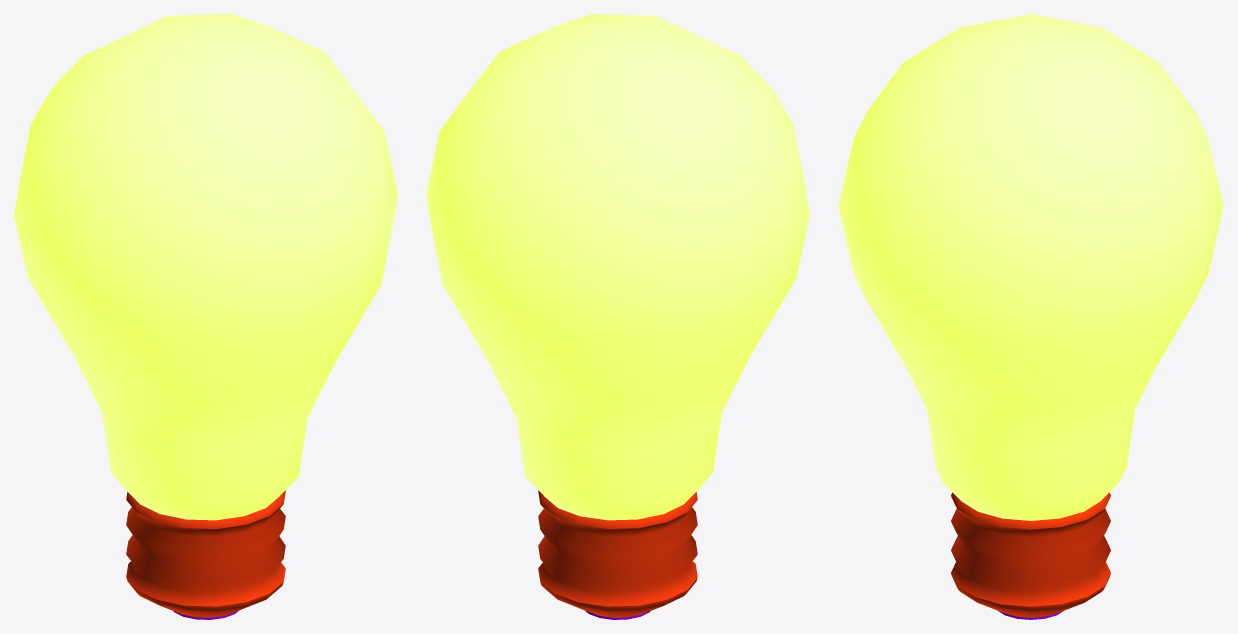
Rendered from BOMBILLA.FBX.
3 renders of one model, left to right at view 1: azimuth 30°, elevation 25°; view 2: azimuth 150°, elevation 25°; view 3: azimuth 270°, elevation 25°, orthographic.
Parts seen in each view (by area): view 1: bombilla; view 2: bombilla; view 3: bombilla.
Boxes of the visible parts, <box> form: bombilla: <box>14,14,397,619</box>; bombilla: <box>426,14,809,619</box>; bombilla: <box>838,14,1223,619</box>.
Bounding box in the file's own units: 0.6769 × 1.13 × 0.6769.
